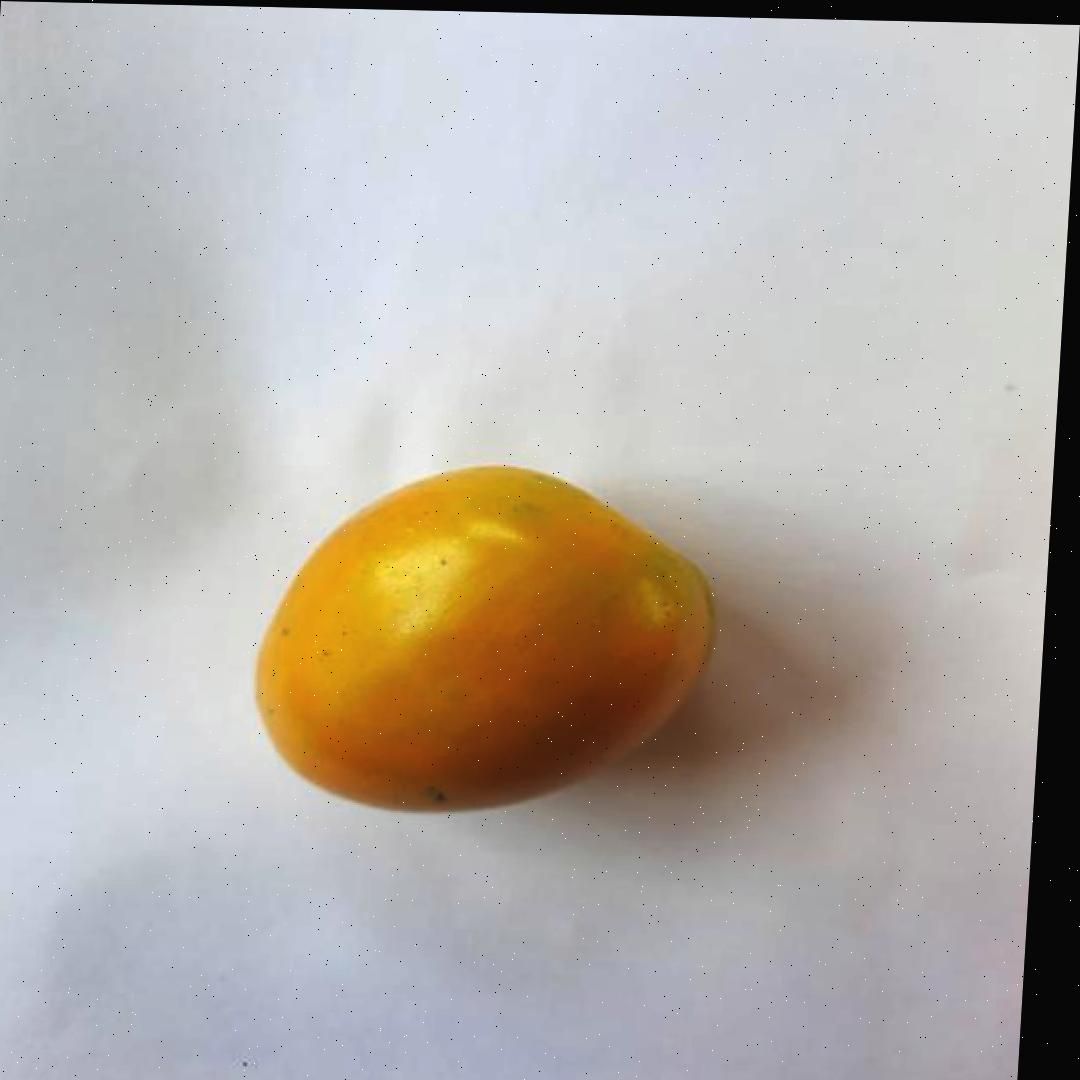setengah_matang: (241, 456, 728, 821)
